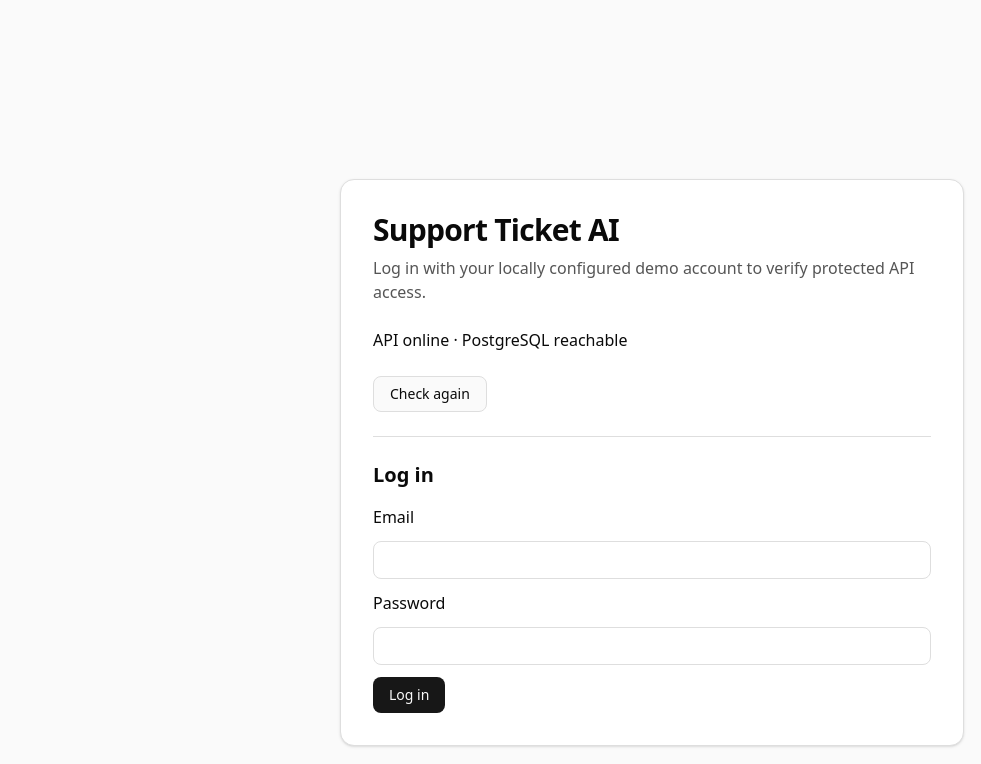
it: persistent session › bounds retries at the deadline after repeated transient failures
In the field labelled "Email": (652, 560) [373,540,931,578], type "demo@example.test"
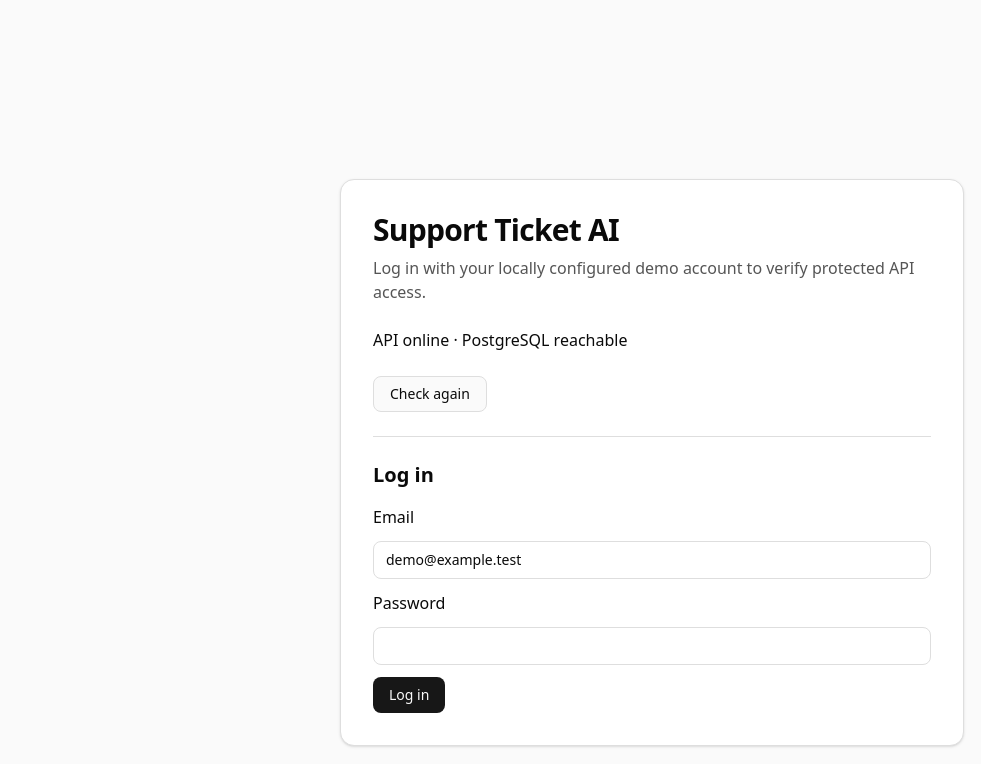
In the password field labelled "Password": (652, 646) [373,626,931,664], type "synthetic-password"
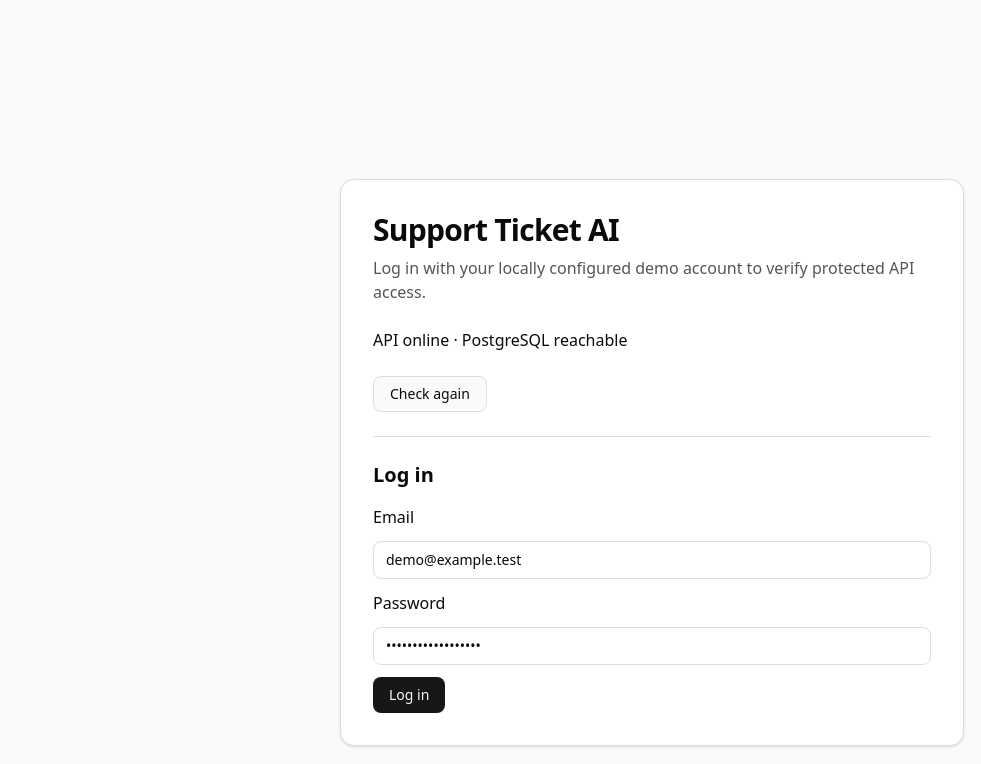
Click the button "Log in": click(409, 694) [373,676,445,712]
Wait 1000000 ms
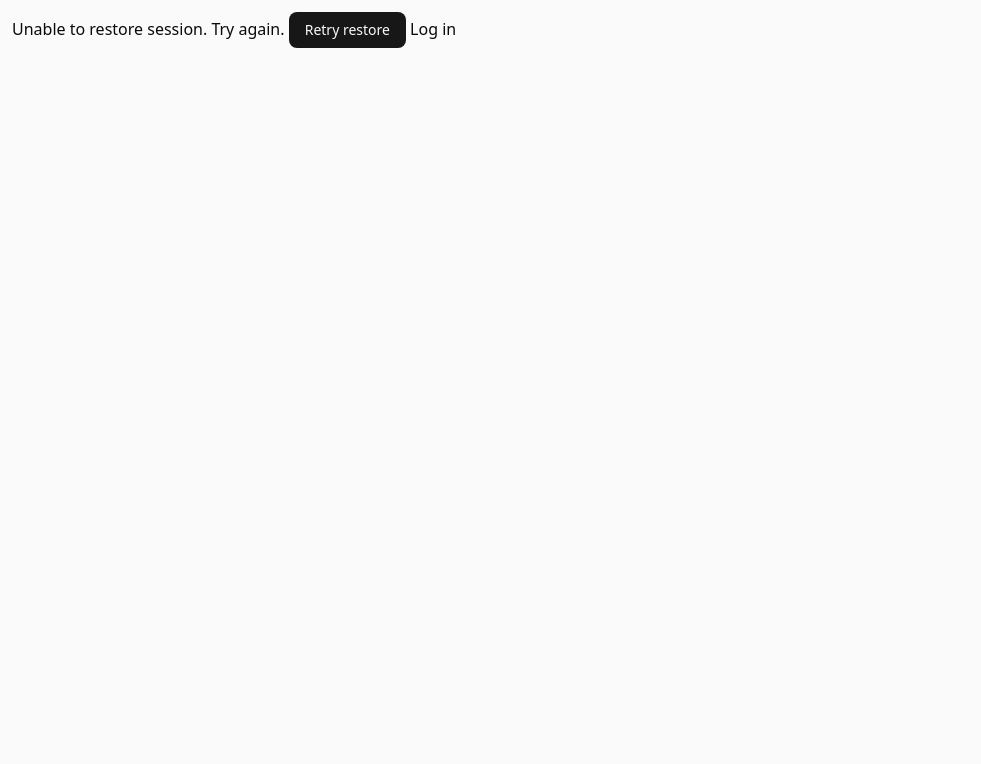
Expected: the button "Retry restore" is shown, [289,12,406,48]
